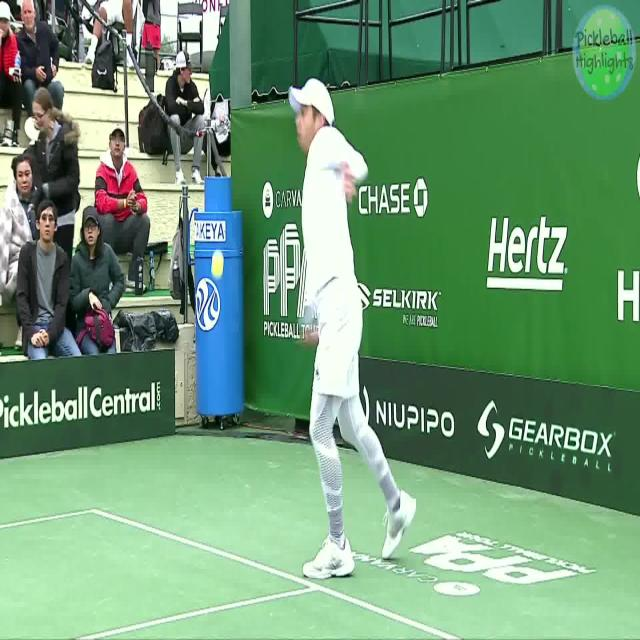ball: (211, 245, 225, 280)
